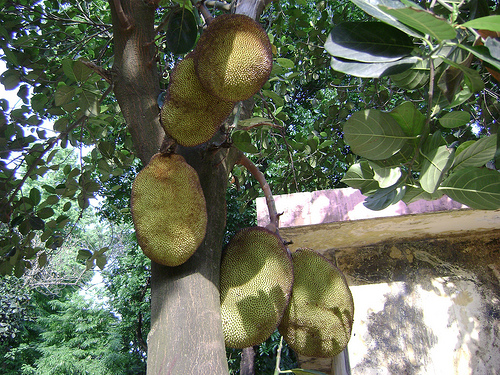jackfruit: (212, 224, 297, 351), (128, 151, 209, 267), (277, 246, 356, 361), (193, 13, 273, 102), (162, 49, 234, 144), (161, 4, 197, 55)
